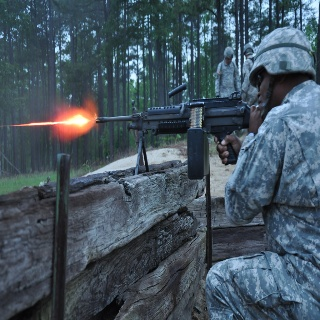rifle: (95, 82, 261, 180)
